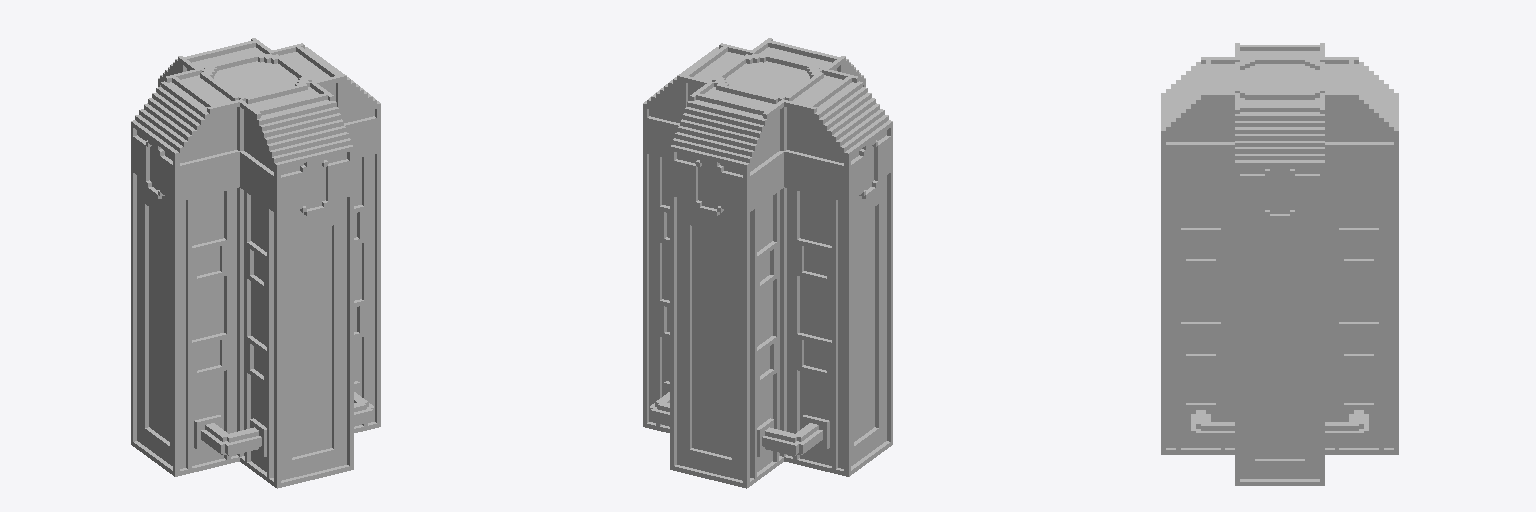
The model's file is matterComposer.obj.
3 renders of one model, left to right at view 1: azimuth 30°, elevation 25°; view 2: azimuth 150°, elevation 25°; view 3: azimuth 270°, elevation 25°, orthographic.
Parts seen in each view (by area): view 1: Matter_Composer; view 2: Matter_Composer; view 3: Matter_Composer.
Part boxes in pixels (x1,y1,x2,y2): Matter_Composer: (131,38,380,488); Matter_Composer: (643,38,892,488); Matter_Composer: (1161,43,1398,485).
Size of the model in its own units: 48 by 80 by 48.